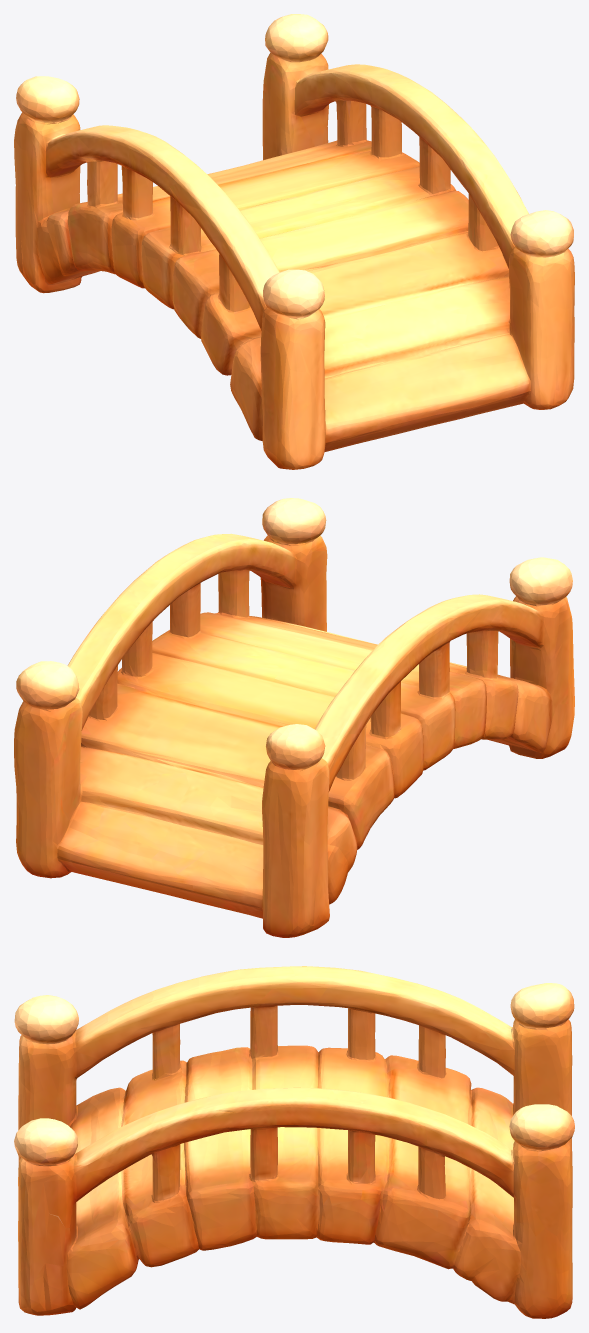
File: bridge.glb
3 views of the same model, one above another, from view 1: azimuth 30°, elevation 25°; view 2: azimuth 150°, elevation 25°; view 3: azimuth 270°, elevation 25° (orthographic).
Parts seen in each view (by area): view 1: tripo_mesh_c9a9dcbd-fe87-4063-90a9-d5d387a59b18; view 2: tripo_mesh_c9a9dcbd-fe87-4063-90a9-d5d387a59b18; view 3: tripo_mesh_c9a9dcbd-fe87-4063-90a9-d5d387a59b18.
Part boxes in pixels (x1,y1,x2,y2): tripo_mesh_c9a9dcbd-fe87-4063-90a9-d5d387a59b18: [14, 14, 574, 469]; tripo_mesh_c9a9dcbd-fe87-4063-90a9-d5d387a59b18: [14, 498, 574, 937]; tripo_mesh_c9a9dcbd-fe87-4063-90a9-d5d387a59b18: [14, 966, 574, 1318].
Size of the model in its own units: 1.47 by 1 by 2.33.
Materials: 1 (1 with a texture image).
